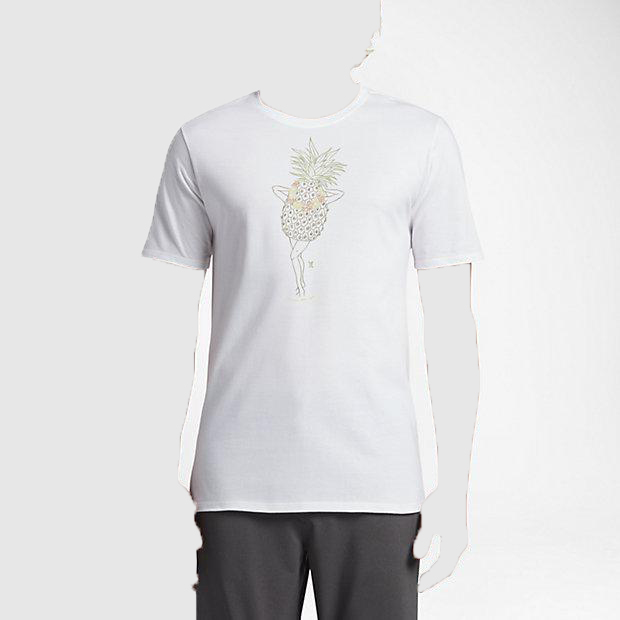teeshirt: (136, 87, 486, 516)
